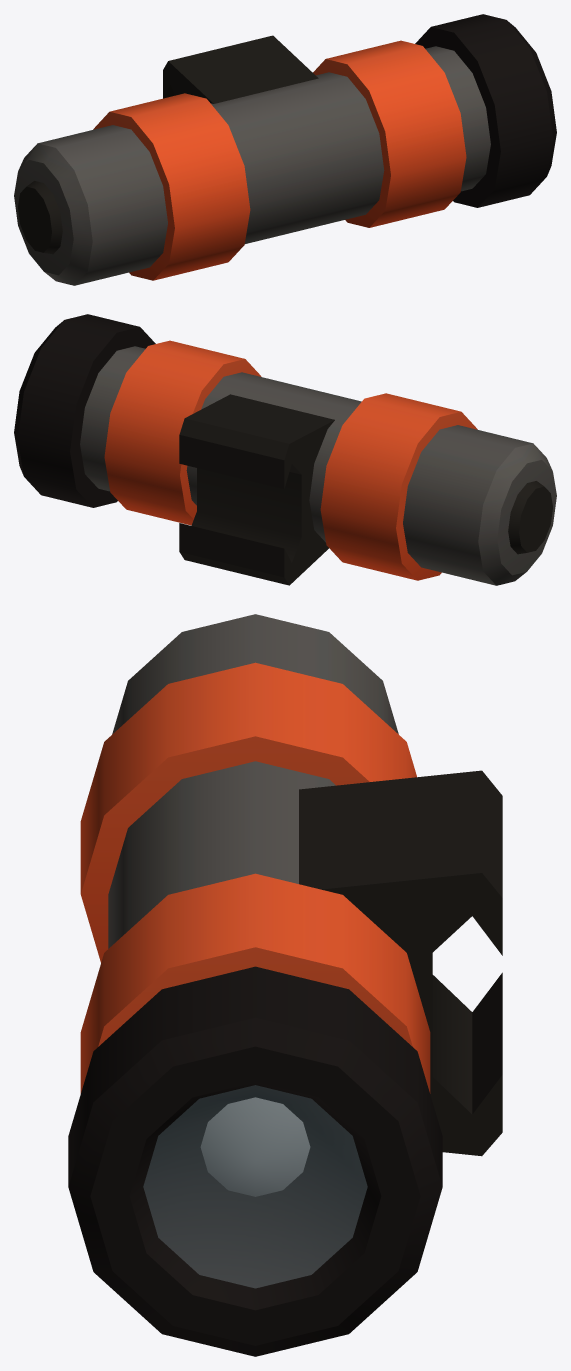
File: Tactical_Flashlight.fbx
3 renders of one model, top to bottom at view 1: azimuth 30°, elevation 25°; view 2: azimuth 150°, elevation 25°; view 3: azimuth 270°, elevation 25°, orthographic. The views are drawn at different scales.
Visible parts, largest first — view 1: Tactical_Flashlight; view 2: Tactical_Flashlight; view 3: Tactical_Flashlight.
Boxes of the visible parts, x1,y1,x2,y2 form: Tactical_Flashlight: [14, 14, 556, 285]; Tactical_Flashlight: [14, 314, 556, 585]; Tactical_Flashlight: [68, 614, 502, 1356].
Size of the model in its own units: 13.17 by 4.44 by 5.15.
